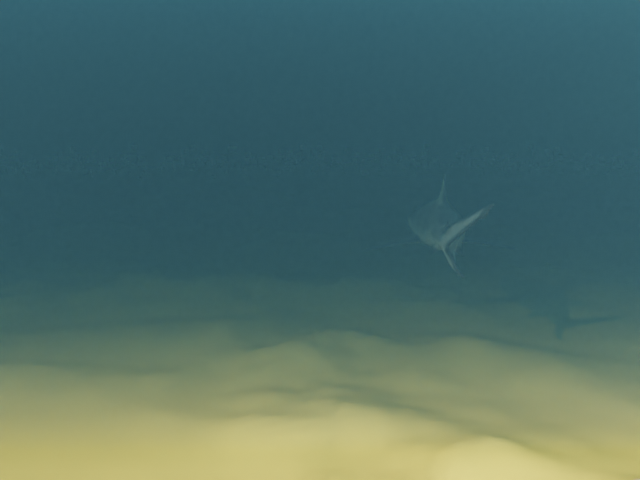Carribean Shark.001: (364, 173, 518, 278)
